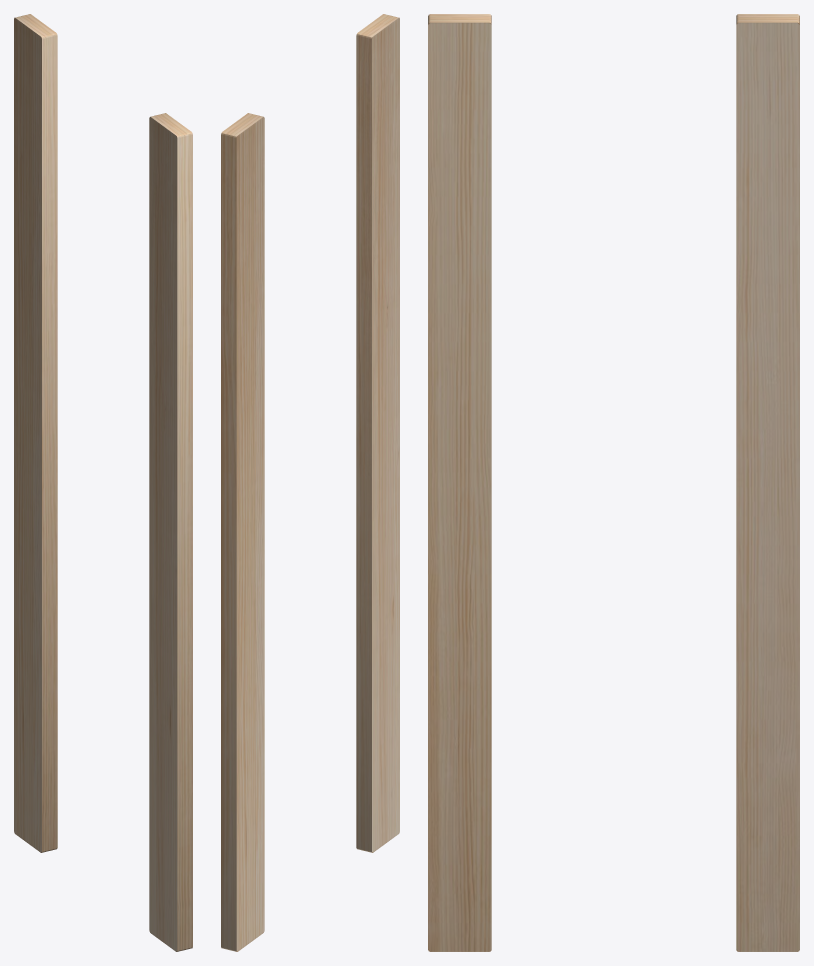
3 views of the same model, side by side, from view 1: azimuth 30°, elevation 25°; view 2: azimuth 150°, elevation 25°; view 3: azimuth 270°, elevation 25° (orthographic). The views are drawn at different scales.
Parts seen in each view (by area): view 1: TransformZUpToYUp.031; view 2: TransformZUpToYUp.031; view 3: TransformZUpToYUp.031.
Part boxes in pixels (box(x1,y1,x2,y2)): TransformZUpToYUp.031: box(14, 14, 192, 951); TransformZUpToYUp.031: box(221, 14, 399, 951); TransformZUpToYUp.031: box(428, 14, 799, 951).
Bounding box in the file's own units: 16 × 805 × 292.
1 material, 1 textured.
